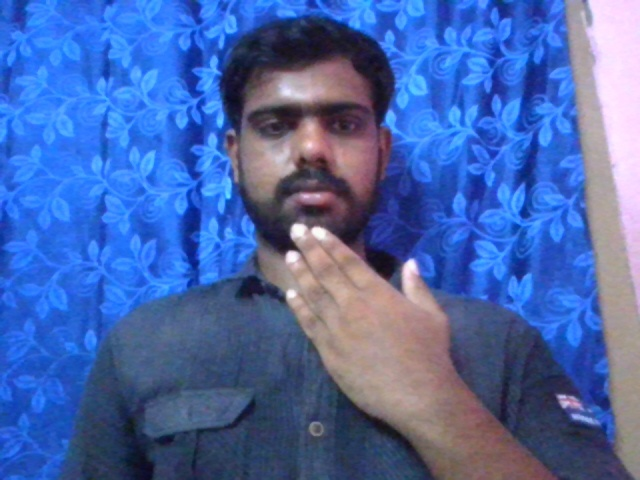Thanks: (280, 215, 445, 403)
